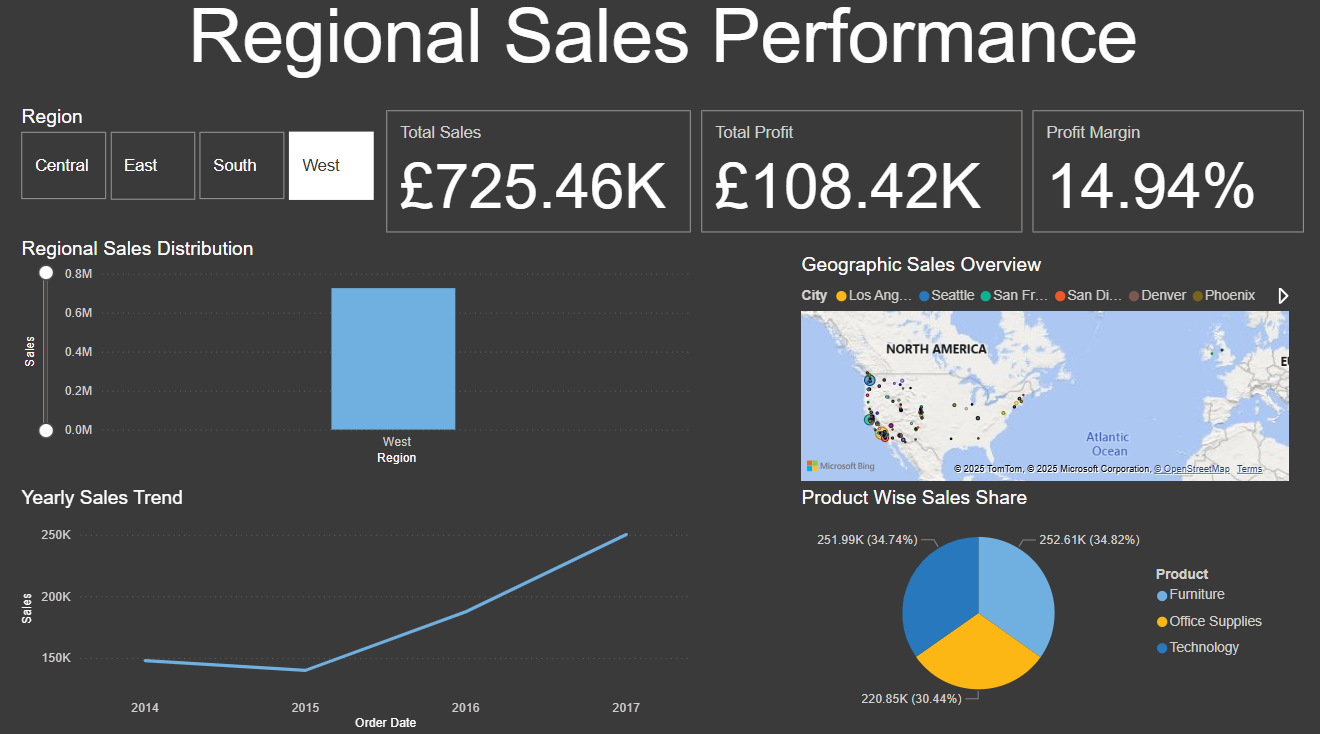

The dashboard page shown, as its layout file describes it:
{"tool":"powerbi","page":{"name":"Sales Performance Dashboard","canvas":[1280,720],"ordinal":0},"visuals":[{"type":"group","id":"g1","title":"Group 1","box":[368,112,896,336],"z":0},{"type":"cardVisual","fields":{"Data":["Sample_ Superstore.Total Sales"]},"box":[368,112,304,128],"z":0,"group":"g2"},{"type":"cardVisual","fields":{"Data":["Sample_ Superstore.Total Profit"]},"box":[672,112,320,128],"z":1000,"group":"g2"},{"type":"columnChart","title":" Regional Sales Distribution","fields":{"Category":["Sample_ Superstore.Region"],"Y":["Sum(Sample_ Superstore.Sales)"]},"box":[16,240,656,224],"z":1000},{"type":"cardVisual","fields":{"Data":["Sample_ Superstore.Profit Margin"]},"box":[992,112,272,128],"z":2000,"group":"g2"},{"type":"pieChart","title":"Product Wise Sales Share","fields":{"Y":["Sum(Sample_ Superstore.Sales)"],"Series":["Sample_ Superstore.Category"]},"box":[768,480,464,224],"z":2000},{"type":"group","id":"g2","title":"Group 4","box":[368,112,896,128],"z":2002,"group":"g1"},{"type":"textbox","box":[0,0,1280,96],"z":3000},{"type":"textbox","box":[400,290.8,254.6,157.2],"z":3000,"group":"g1"},{"type":"lineChart","title":"Yearly Sales Trend","fields":{"Y":["Sum(Sample_ Superstore.Sales)"],"Category":["Sample_ Superstore.Order Date"]},"box":[16,480,656,240],"z":4000},{"type":"map","title":"Geographic Sales Overview","fields":{"Category":["Sample_ Superstore.City"],"Size":["Sum(Sample_ Superstore.Sales)"],"Series":["Sample_ Superstore.City"]},"box":[768,256,480,224],"z":5000},{"type":"advancedSlicerVisual","fields":{"Values":["Sample_ Superstore.Region"]},"box":[32,112,336,96],"z":6000}]}

Visuals, with their boxes in screenshot pixels (x1, y1, x2, y2), scaled from the page's 1280x720 canvas onto the 1320x734 screenshot:
"Group 1" group: (left=380, top=114, right=1304, bottom=457)
cardVisual - Sample_ Superstore.Total Sales: (left=380, top=114, right=693, bottom=245)
cardVisual - Sample_ Superstore.Total Profit: (left=693, top=114, right=1023, bottom=245)
" Regional Sales Distribution" columnChart: (left=16, top=245, right=693, bottom=473)
cardVisual - Sample_ Superstore.Profit Margin: (left=1023, top=114, right=1304, bottom=245)
"Product Wise Sales Share" pieChart: (left=792, top=489, right=1270, bottom=718)
"Group 4" group: (left=380, top=114, right=1304, bottom=245)
textbox: (left=0, top=0, right=1319, bottom=98)
textbox: (left=412, top=296, right=675, bottom=457)
"Yearly Sales Trend" lineChart: (left=16, top=489, right=693, bottom=733)
"Geographic Sales Overview" map: (left=792, top=261, right=1287, bottom=489)
advancedSlicerVisual - Sample_ Superstore.Region: (left=33, top=114, right=380, bottom=212)
